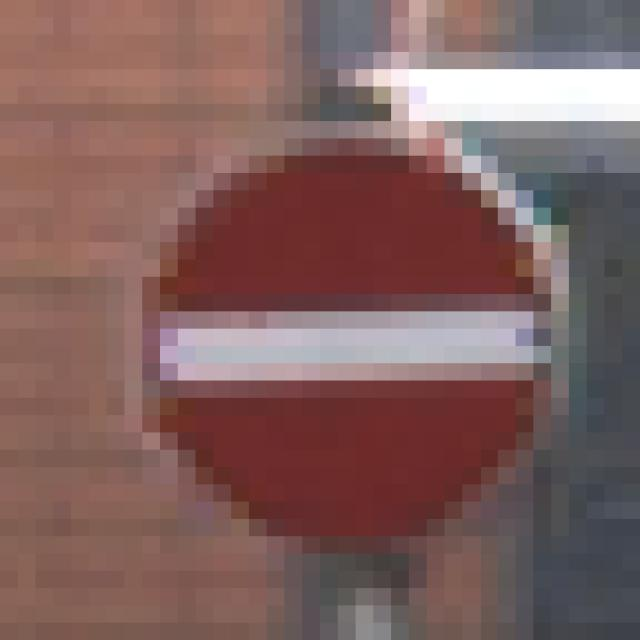No Entry: (108, 105, 534, 537)
